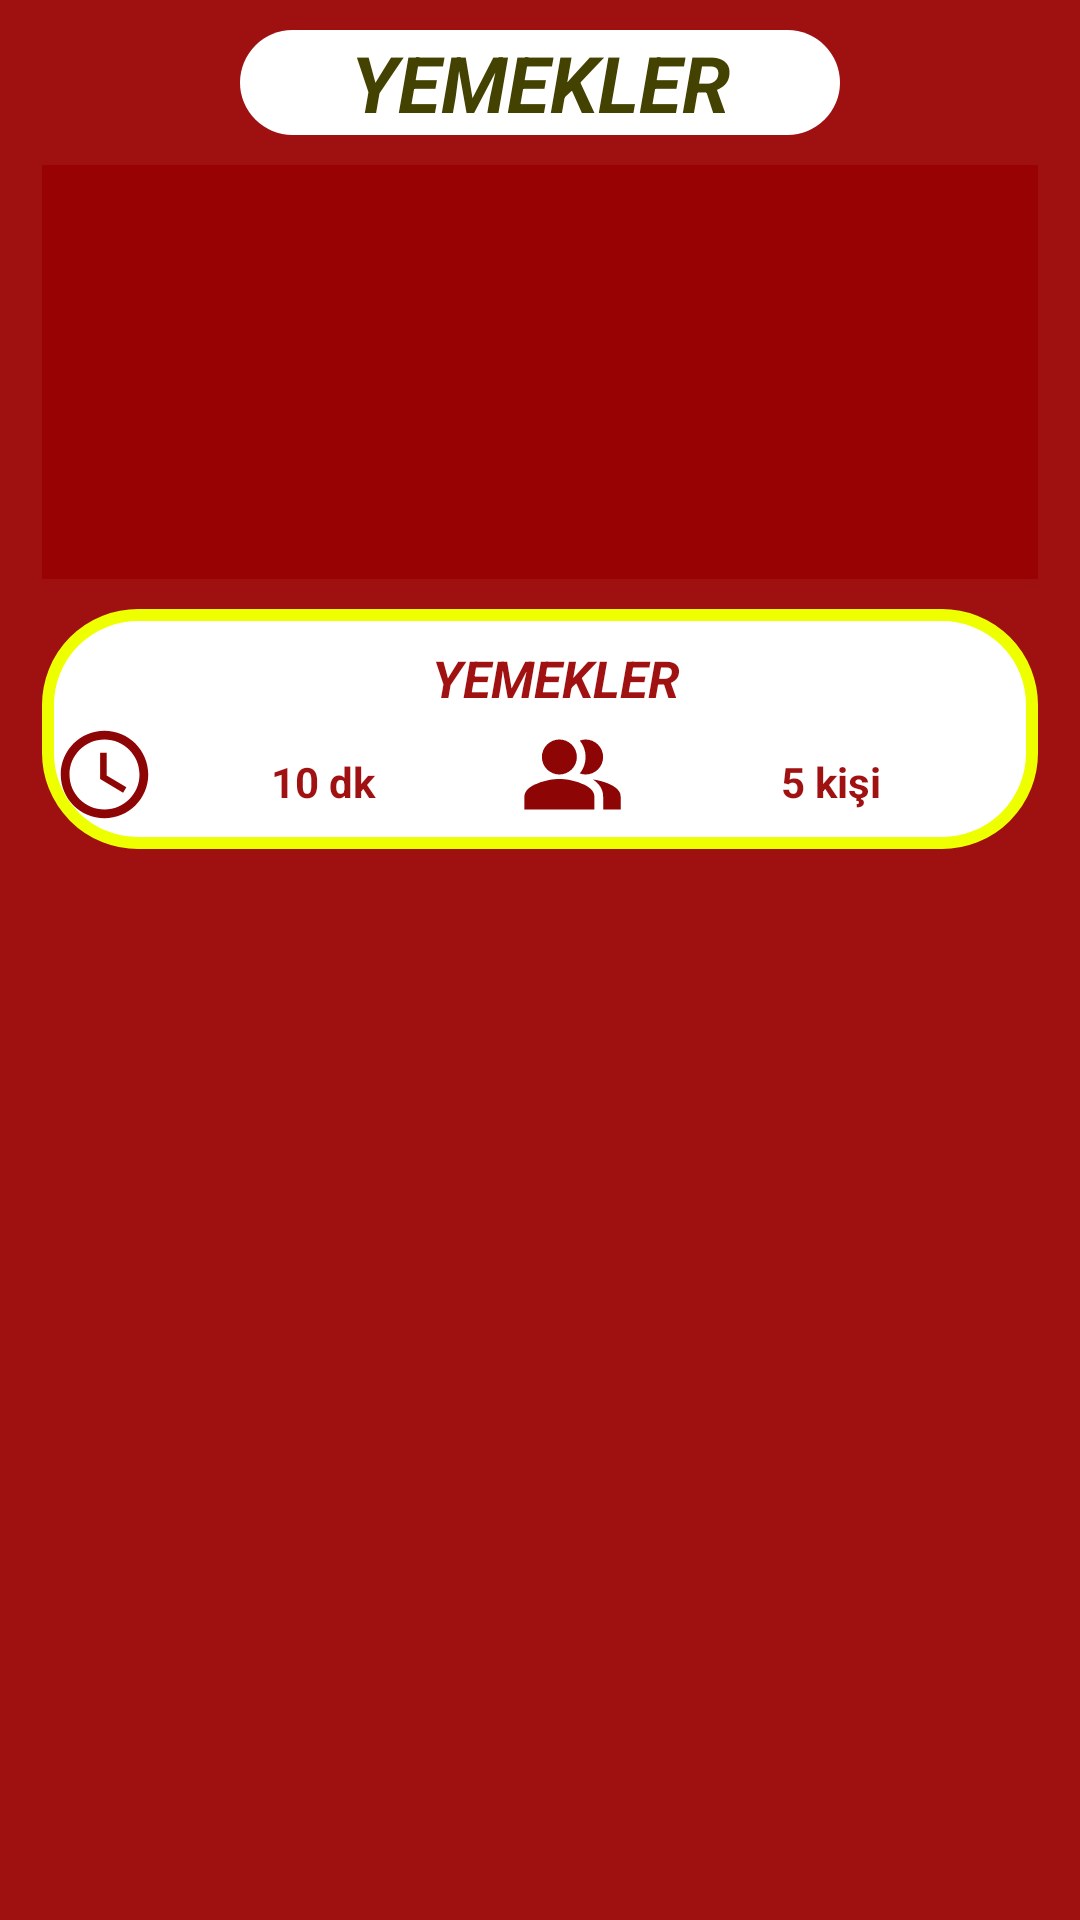

Icons on this 1080 × 1920 Android screen, each with the point to tap as [x,y]:
people: [572,774]
saat: [100,774]
